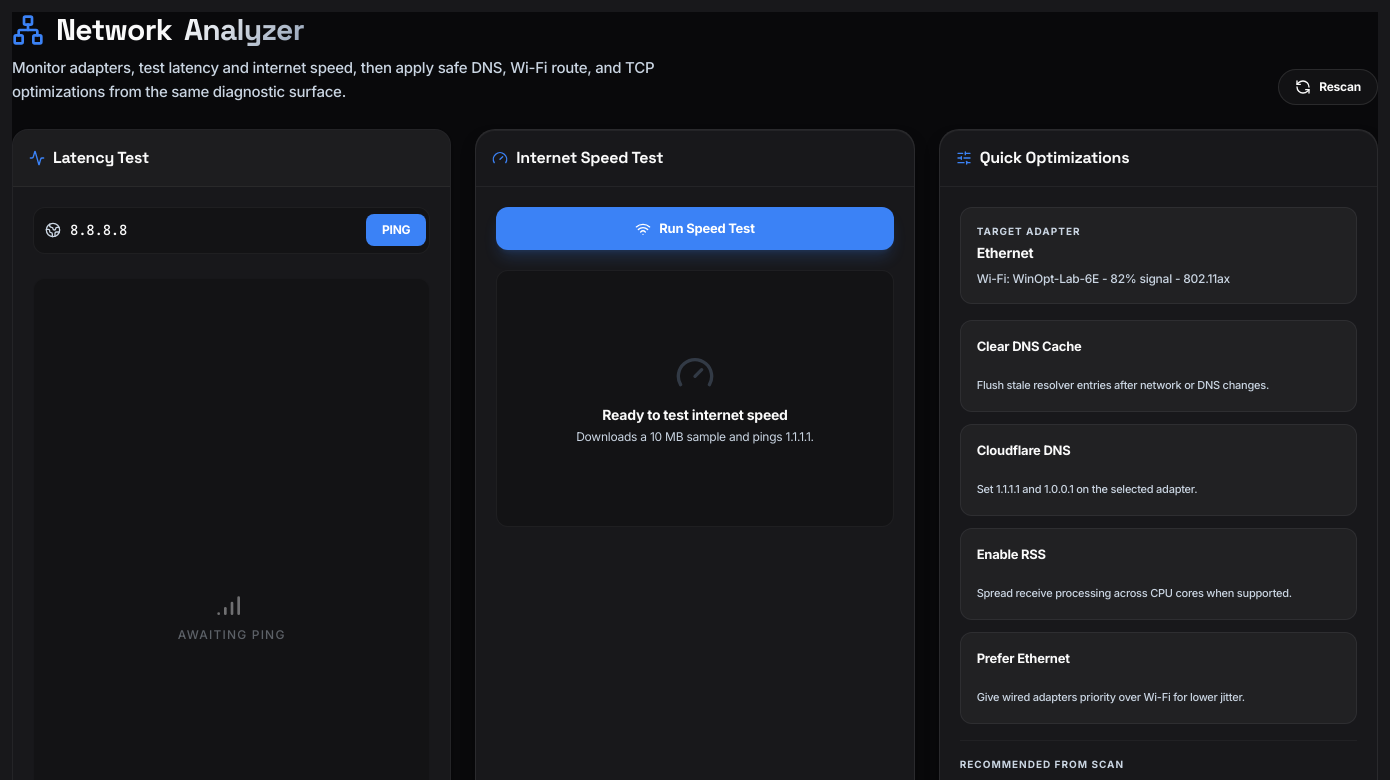
NetworkAnalyzerPage › shows ping result latency after ping
Expected: the heading "Latency Test" is shown, [29,146,149,170]
Step 1. Click the button "PING" → (396, 230), box [366,214,426,246]
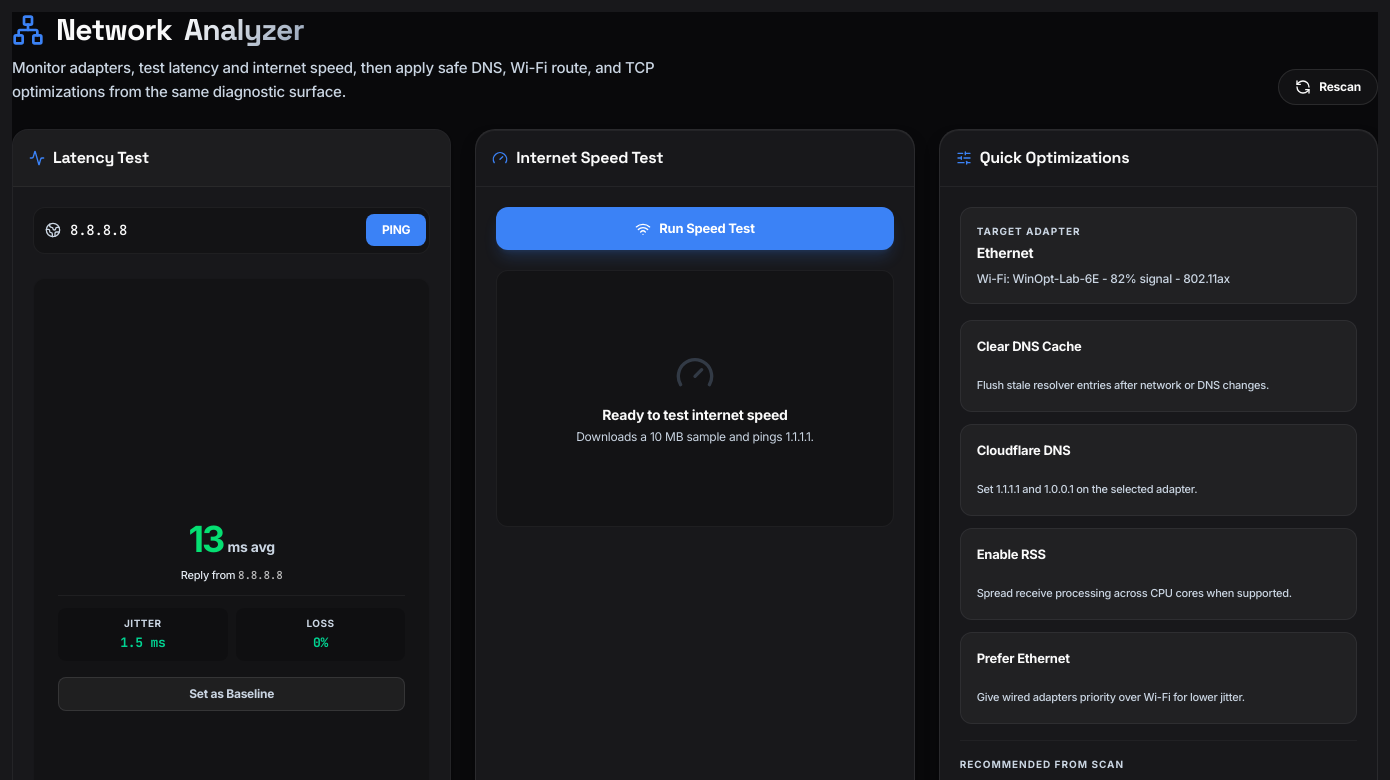
Result: the text "ms avg" is shown at [228,536,275,556]
